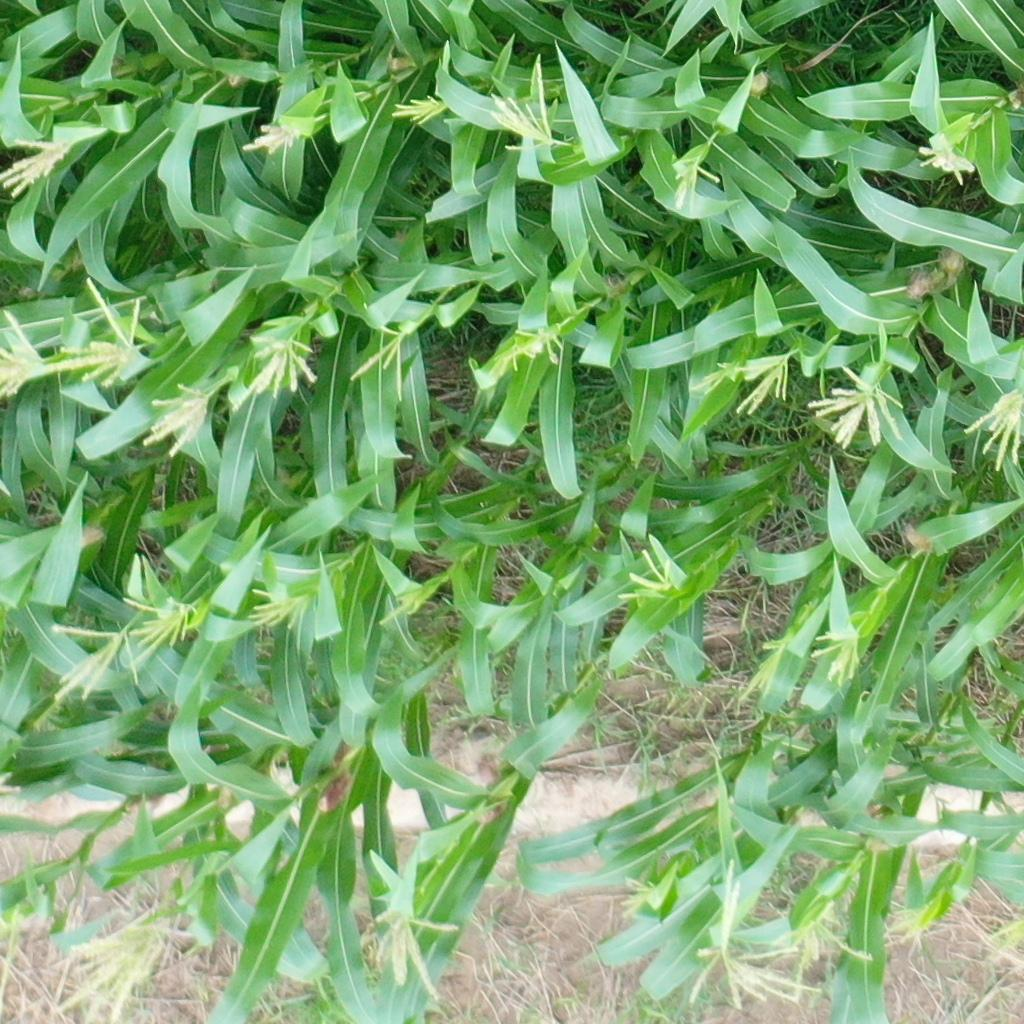Tassel: (682, 857, 821, 1012), (52, 918, 170, 1019), (53, 272, 149, 392), (772, 902, 882, 1005), (367, 878, 458, 1002), (47, 615, 139, 713), (485, 58, 570, 158), (808, 364, 903, 453), (231, 329, 318, 411), (346, 320, 421, 404), (1, 306, 63, 403), (141, 380, 213, 461), (959, 387, 1024, 474), (125, 588, 200, 663), (1, 128, 77, 199), (736, 631, 794, 703), (729, 354, 795, 413), (239, 583, 312, 636), (486, 326, 562, 376), (808, 625, 865, 687), (667, 153, 723, 214), (917, 135, 977, 190), (620, 546, 672, 601), (242, 114, 307, 154), (613, 872, 662, 925), (885, 899, 939, 946), (385, 91, 447, 125), (690, 356, 740, 397), (985, 916, 1024, 961)
